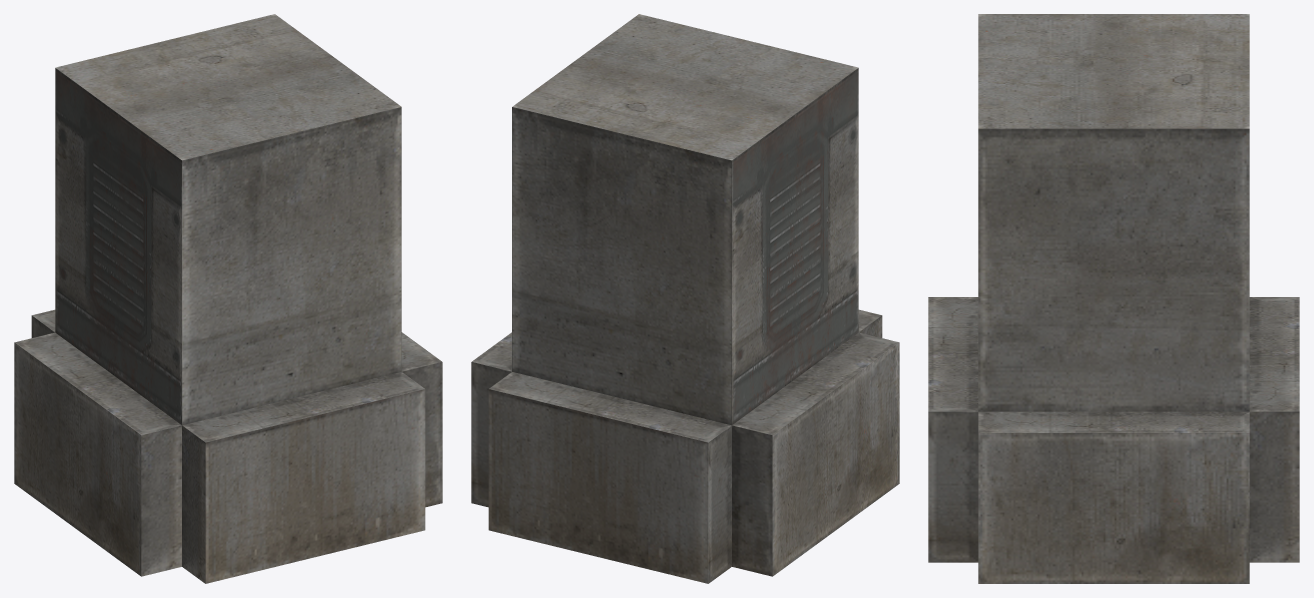
File: CP_Column_End.fbx
3 renders of one model, left to right at view 1: azimuth 30°, elevation 25°; view 2: azimuth 150°, elevation 25°; view 3: azimuth 270°, elevation 25°, orthographic. The views are drawn at different scales.
Parts seen in each view (by area): view 1: CP_Column_End; view 2: CP_Column_End; view 3: CP_Column_End.
Part boxes in pixels (left/top/right/bottom): CP_Column_End: left=14, top=14, right=442, bottom=583; CP_Column_End: left=471, top=14, right=899, bottom=583; CP_Column_End: left=928, top=14, right=1299, bottom=583.
Bounding box in the file's own units: 93.9 × 121 × 93.9.
